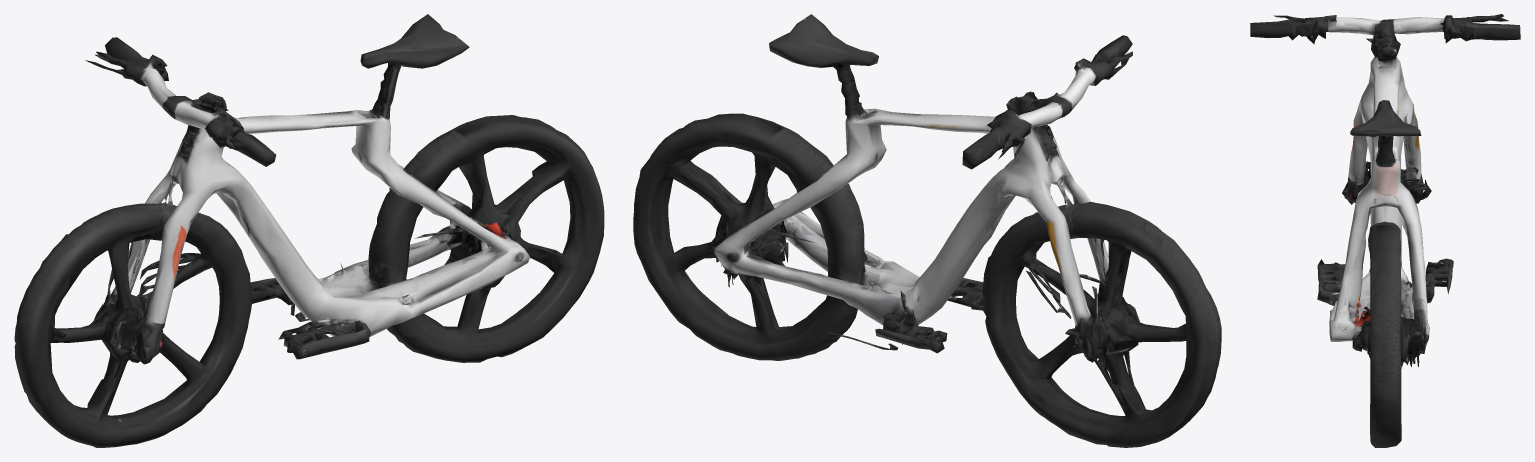
The model's file is Futuristic_Bicycle_De_0421164752_texture.glb.
The picture shows the model from 3 angles, left to right: view 1: azimuth 30°, elevation 25°; view 2: azimuth 150°, elevation 25°; view 3: azimuth 270°, elevation 25°; orthographic projection. The views are drawn at different scales.
Size of the model in its own units: 1.99 by 1.13 by 0.9352.
1 material, 1 textured.
